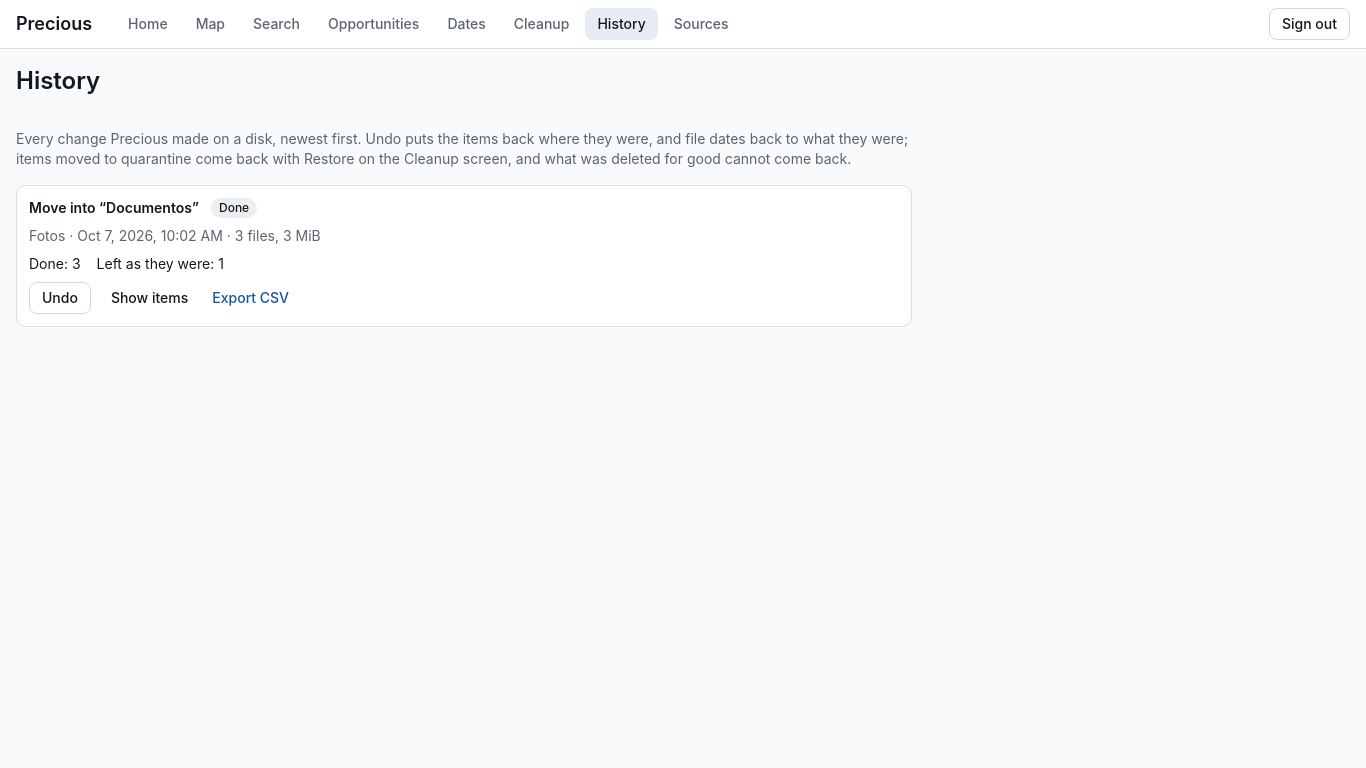
it: History › undoes an action, and lists its items on demand
The width and height of the screenshot is (1366, 768).
Check: the element "Move into “Documentos”" is shown, box [16,185,912,327]
Click the button "Show items" at x=150, y=298, box [99,282,200,314]
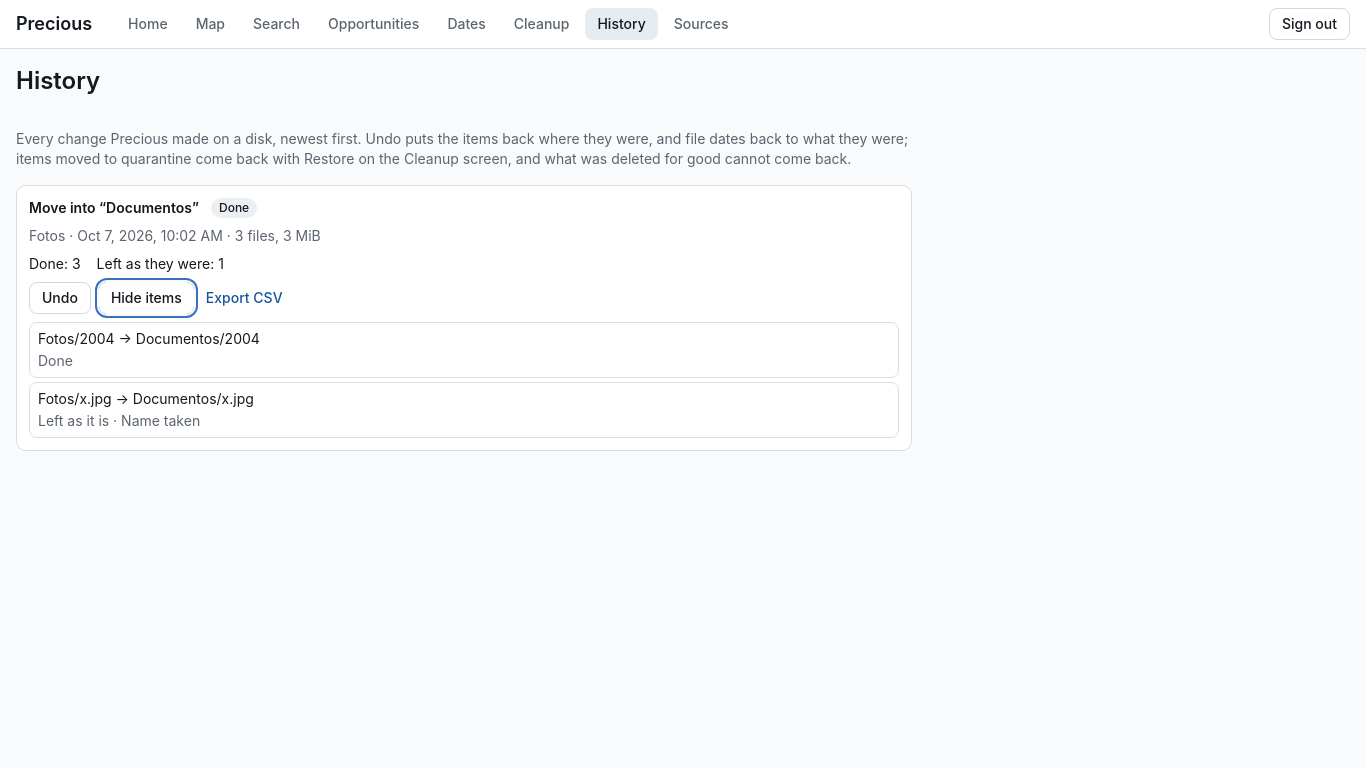
Check: the list items read "Fotos/2004 → Documentos/2004Done", "Fotos/x.jpg → Documentos/x.jpgLeft as it is · Name taken", in this order, box [29,322,899,378]; [29,382,899,438]
Click the button "Undo" at x=60, y=298, box [29,282,91,314]
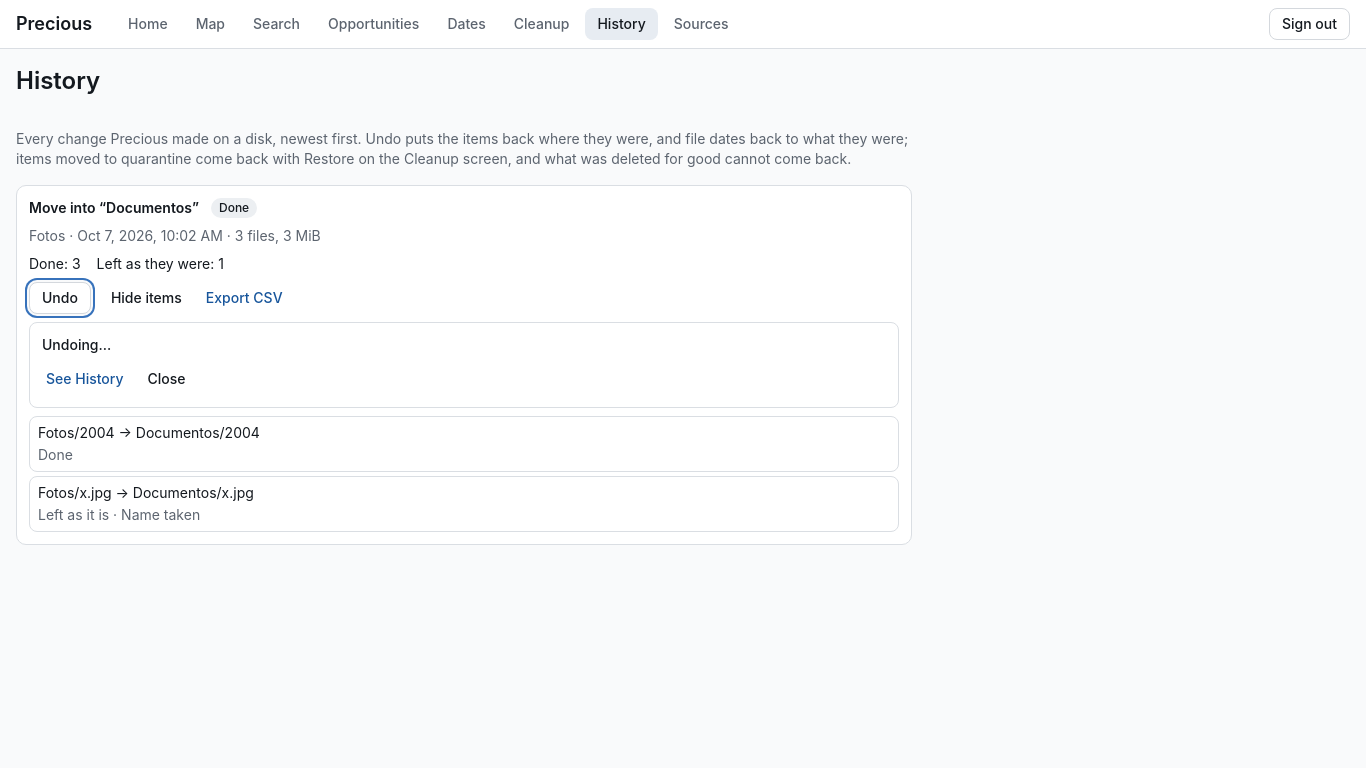
Check: the text "Undoing…" is shown, box [42,336,111,353]
